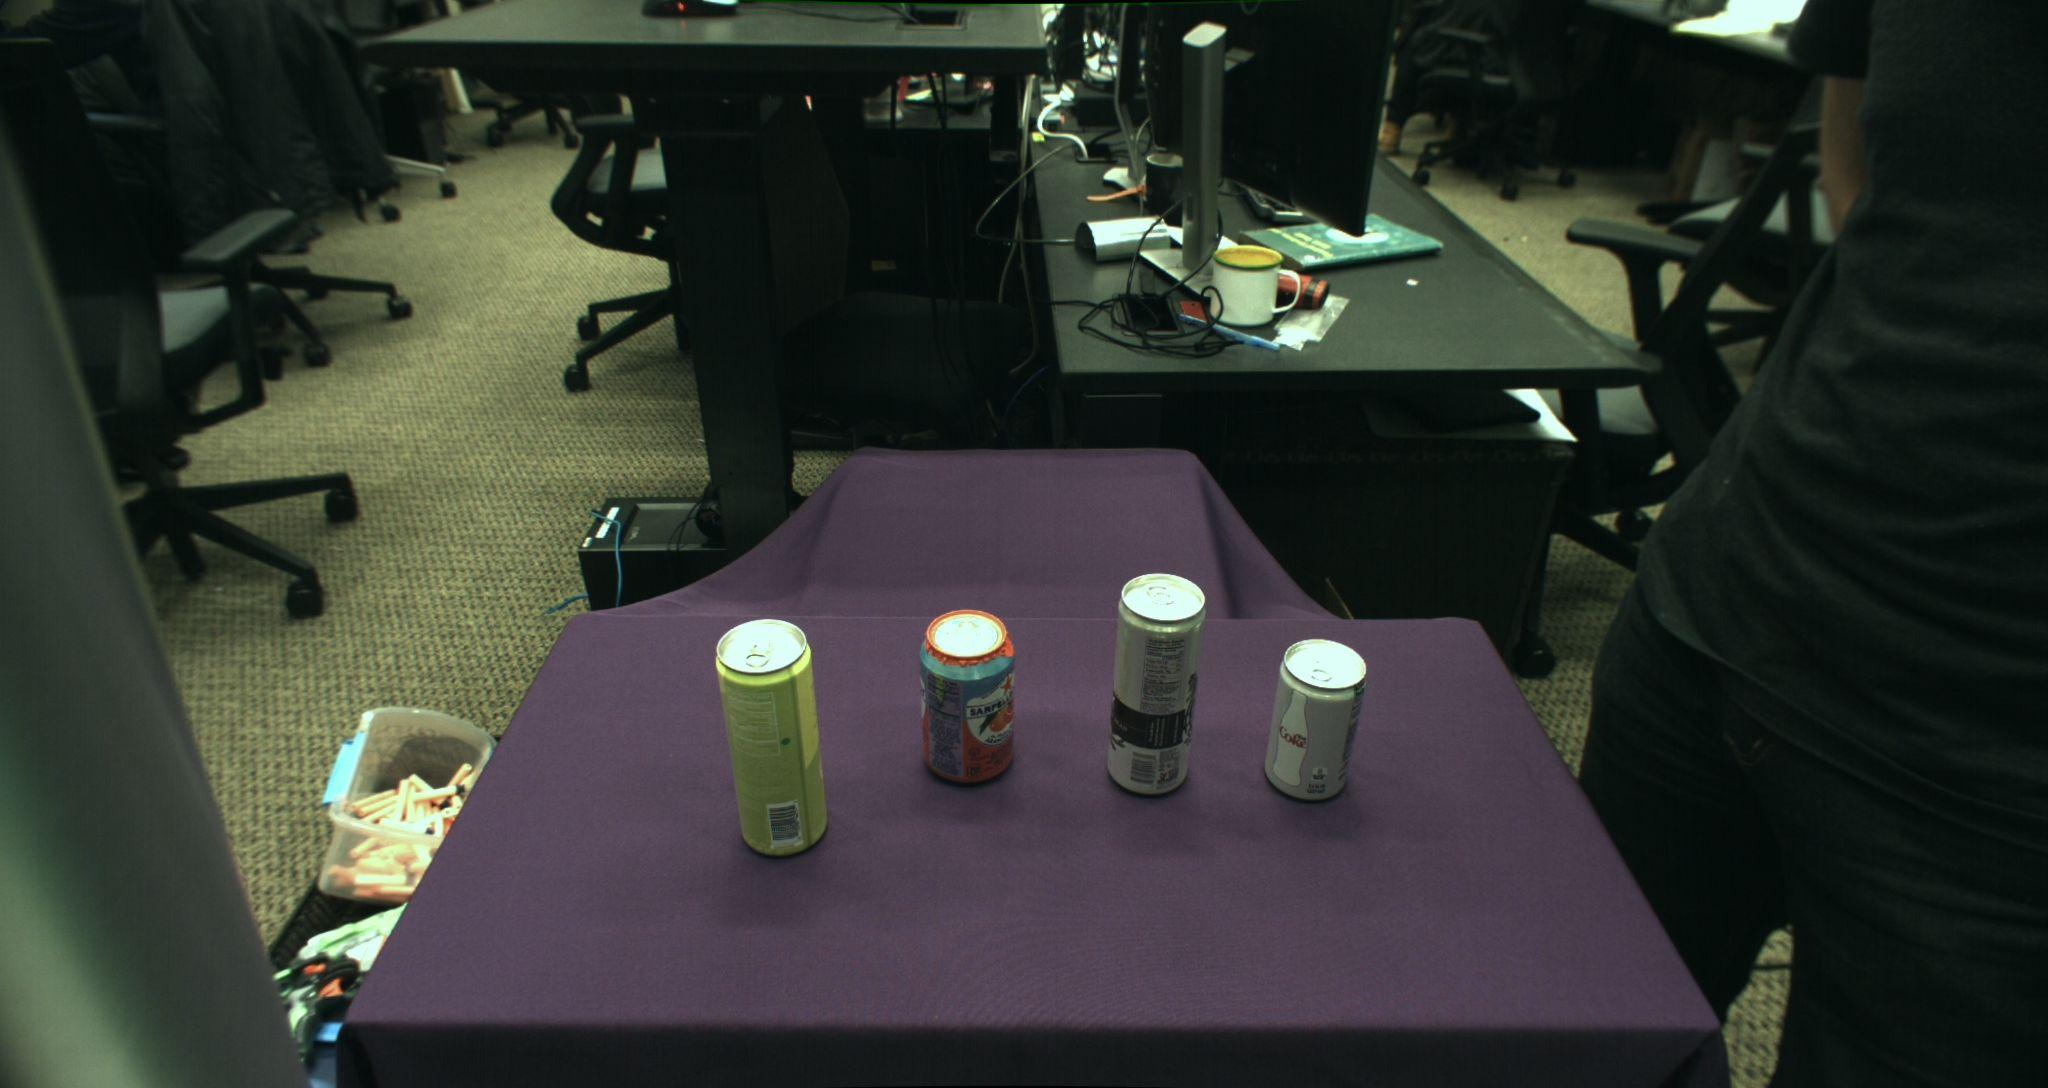can_diet_coke_small: (1265, 637, 1367, 803)
can_dry_sparkling_vanilla_bean: (1107, 573, 1206, 795)
can_izze_fusions_lemon_lime: (715, 616, 828, 856)
can_sanpellegrino_blood_orange: (918, 608, 1015, 784)
